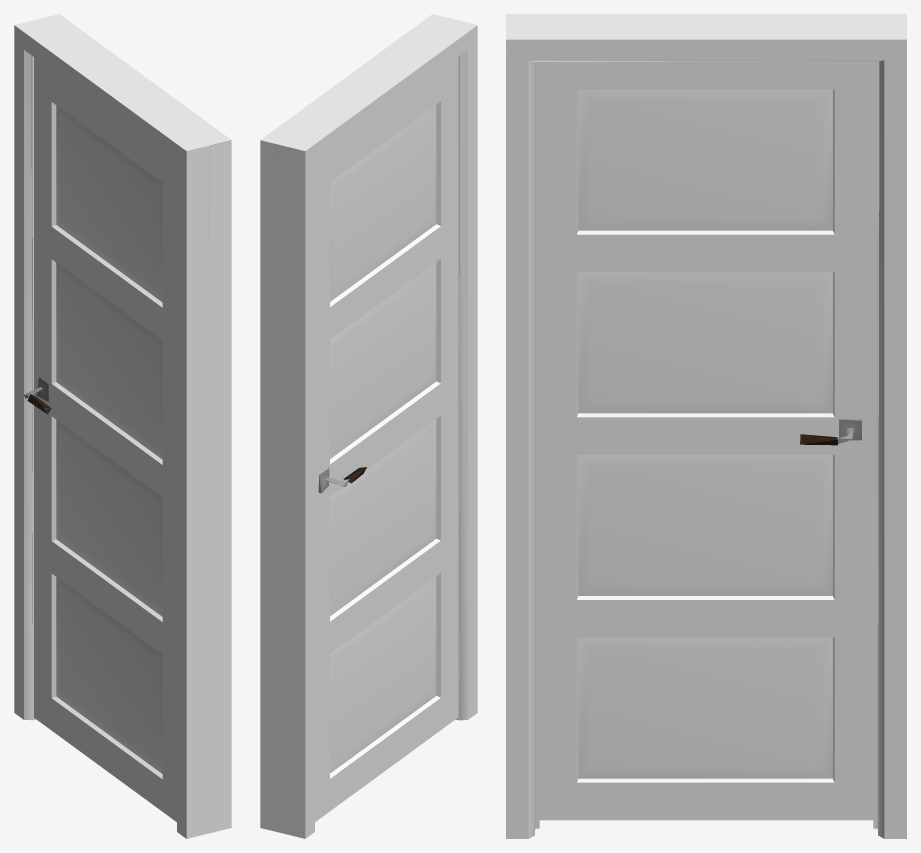
Rendered from Door0014.obj.
The picture shows the model from 3 angles, left to right: view 1: azimuth 30°, elevation 25°; view 2: azimuth 150°, elevation 25°; view 3: azimuth 270°, elevation 25°; orthographic projection. The views are drawn at different scales.
Size of the model in its own units: 0.199 by 2.12 by 0.964.
Materials: 1 (1 with a texture image).
